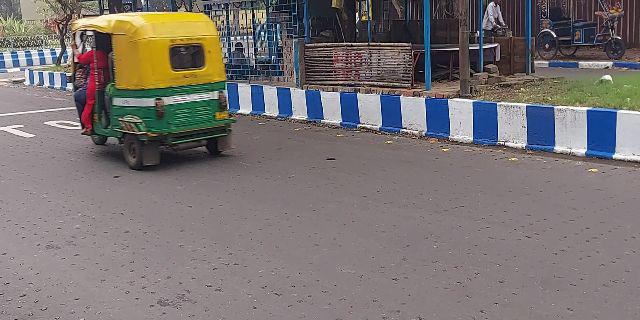Autorickshaw: (70, 8, 246, 170)
